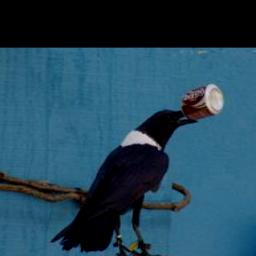Crow: (50, 107, 200, 256)
